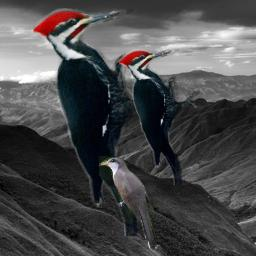Cuckoo: (99, 156, 159, 251)
Woodpecker: (33, 5, 168, 236), (119, 47, 200, 185)
